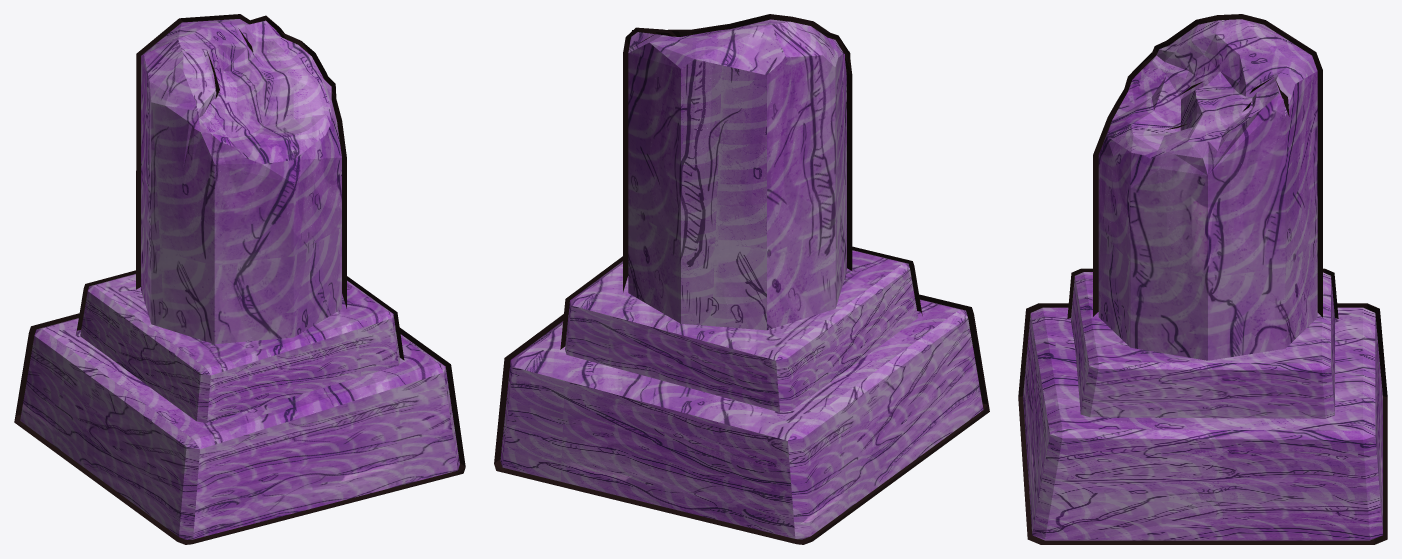
File: mesh_ruins_03.fbx
3 renders of one model, left to right at view 1: azimuth 30°, elevation 25°; view 2: azimuth 150°, elevation 25°; view 3: azimuth 270°, elevation 25°, orthographic. The views are drawn at different scales.
Parts seen in each view (by area): view 1: mesh_ruins_03; view 2: mesh_ruins_03; view 3: mesh_ruins_03.
Boxes of the visible parts, x1,y1,x2,y2 form: mesh_ruins_03: [14, 14, 465, 544]; mesh_ruins_03: [494, 14, 989, 544]; mesh_ruins_03: [1018, 14, 1387, 544].
Bounding box in the file's own units: 179 × 242 × 186.
2 materials, 1 textured.
